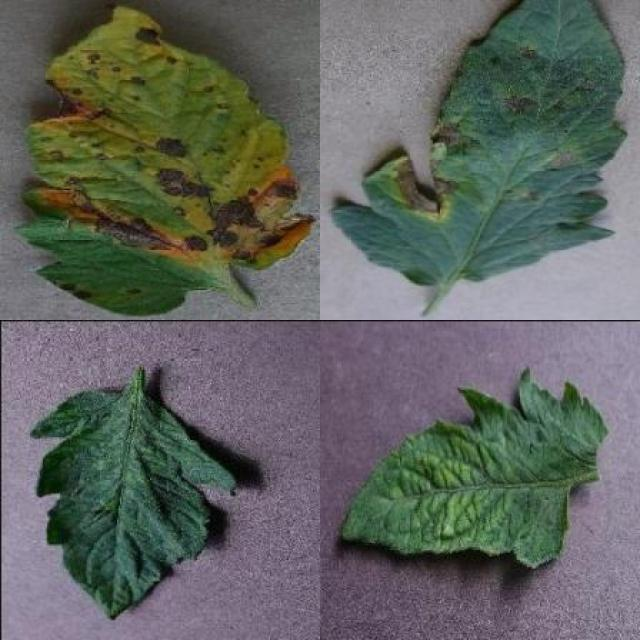Early Blight: (20, 6, 317, 315), (330, 0, 627, 286)
Mosaic Virus: (338, 362, 612, 568), (26, 386, 241, 624)
